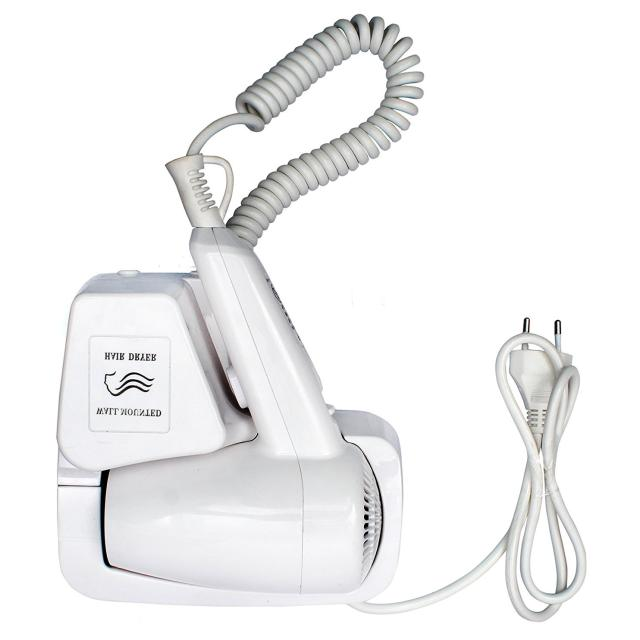dryer: (42, 11, 608, 622), (51, 240, 417, 612)
